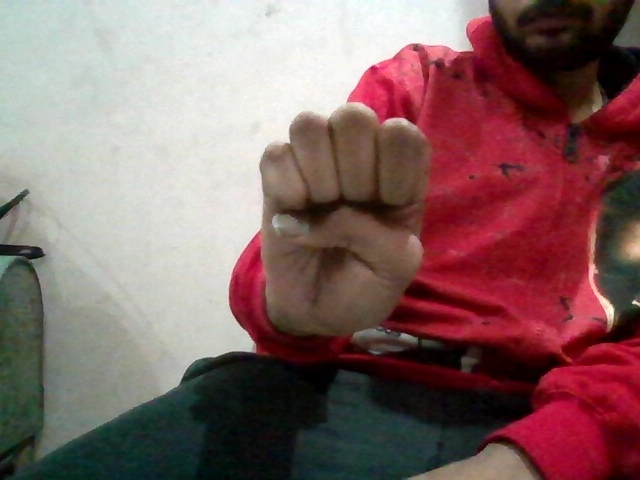E: (239, 91, 441, 342)
